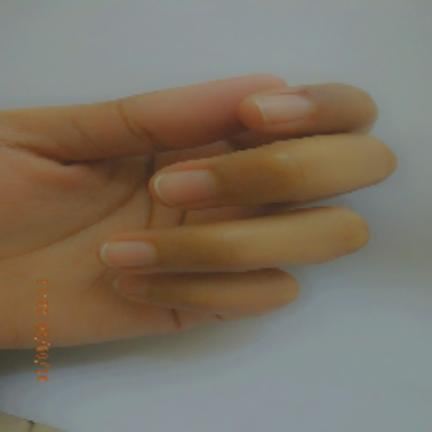Nail: (153, 170, 217, 205), (253, 94, 312, 124), (100, 240, 156, 267), (115, 276, 148, 294)
